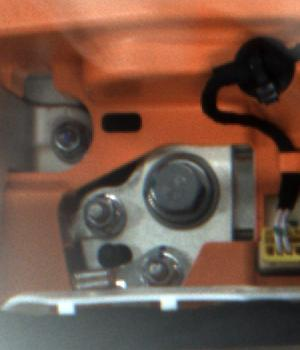nut_b: (142, 147, 223, 234)
